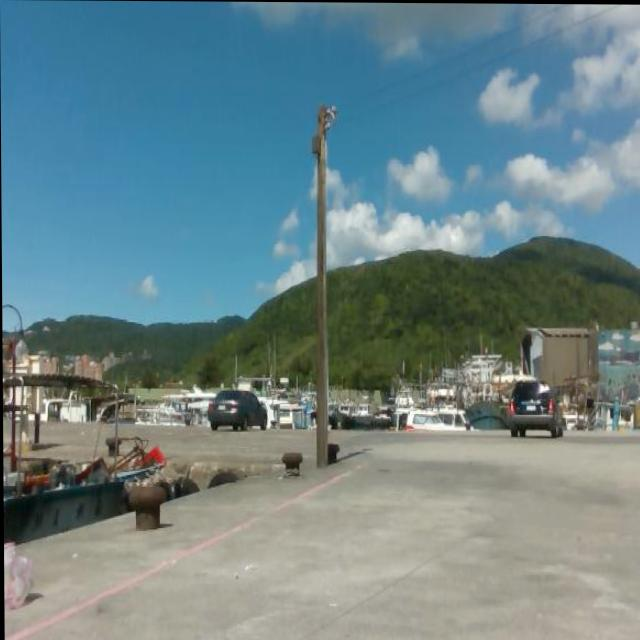pollute: (3, 540, 34, 613)
